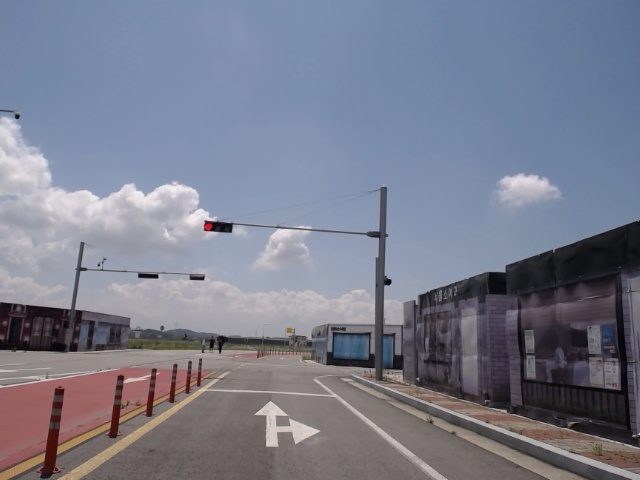red_3: (204, 219, 234, 234)
